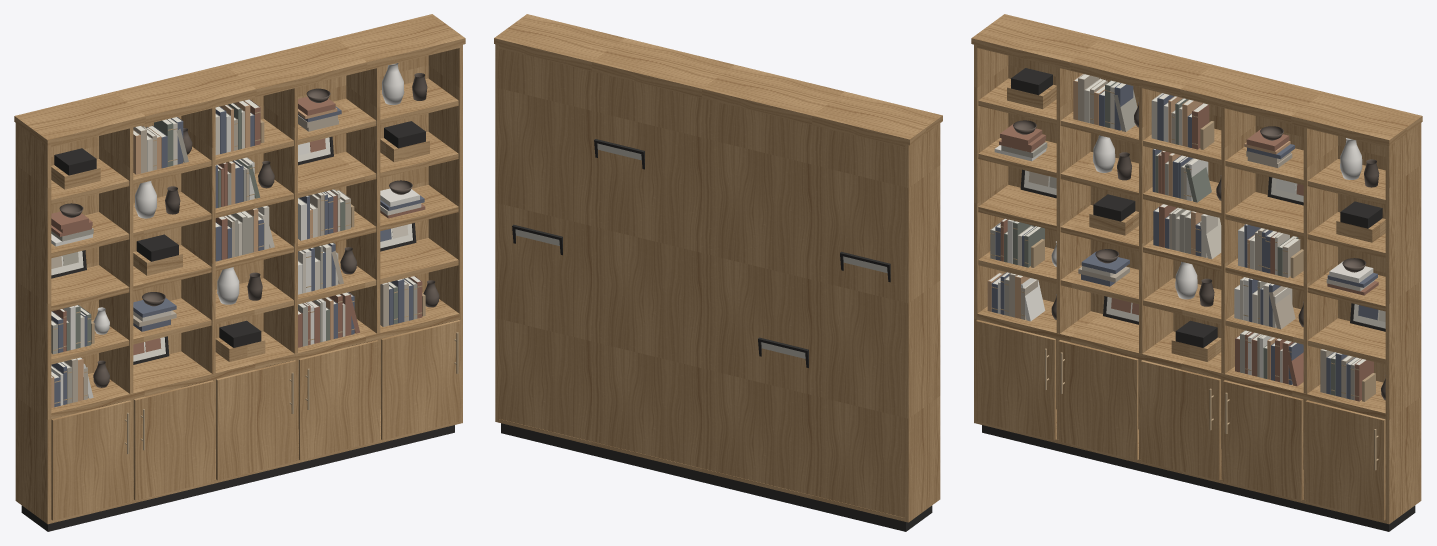
File: libreria.glb
3 renders of one model, left to right at view 1: azimuth 30°, elevation 25°; view 2: azimuth 150°, elevation 25°; view 3: azimuth 330°, elevation 25°, orthographic.
Parts seen in each view (by area): view 1: finitura, schienale, zoccolo, libro5, libro3, ceramica_scura, libro0, libro2, pagine, libro4, libro7, ceramica (+3 smaller); view 2: schienale, finitura, zoccolo, pagine; view 3: finitura, schienale, zoccolo, libro5, libro3, libro0, libro2, libro4, pagine, libro7, ceramica_scura, libro1 (+3 smaller).
Part boxes in pixels (x1=…): finitura: x1=14, y1=14, x2=465, y2=524; schienale: x1=51, y1=55, x2=429, y2=469; zoccolo: x1=21, y1=121, x2=454, y2=531; libro5: x1=51, y1=106, x2=424, y2=407; libro3: x1=51, y1=96, x2=425, y2=355; ceramica_scura: x1=59, y1=73, x2=439, y2=387; libro0: x1=51, y1=115, x2=408, y2=402; libro2: x1=80, y1=110, x2=421, y2=347; pagine: x1=51, y1=99, x2=420, y2=378; libro4: x1=51, y1=113, x2=419, y2=405; libro7: x1=51, y1=129, x2=417, y2=403; ceramica: x1=93, y1=63, x2=404, y2=334; schienale: x1=499, y1=49, x2=904, y2=517; finitura: x1=494, y1=14, x2=942, y2=522; zoccolo: x1=501, y1=139, x2=932, y2=531; pagine: x1=515, y1=143, x2=887, y2=358; finitura: x1=971, y1=14, x2=1422, y2=524; schienale: x1=1007, y1=55, x2=1385, y2=469; zoccolo: x1=982, y1=68, x2=1415, y2=531; libro5: x1=991, y1=83, x2=1378, y2=399; libro3: x1=999, y1=103, x2=1378, y2=401; libro0: x1=1009, y1=74, x2=1354, y2=398; libro2: x1=1018, y1=78, x2=1385, y2=382; libro4: x1=994, y1=103, x2=1373, y2=377; pagine: x1=989, y1=74, x2=1385, y2=365; libro7: x1=990, y1=90, x2=1359, y2=400; ceramica_scura: x1=1013, y1=102, x2=1385, y2=400; libro1: x1=1004, y1=80, x2=1335, y2=395.
Bounding box in the file's own units: 3.02 × 2.74 × 0.4746.
16 materials, 2 textured.
